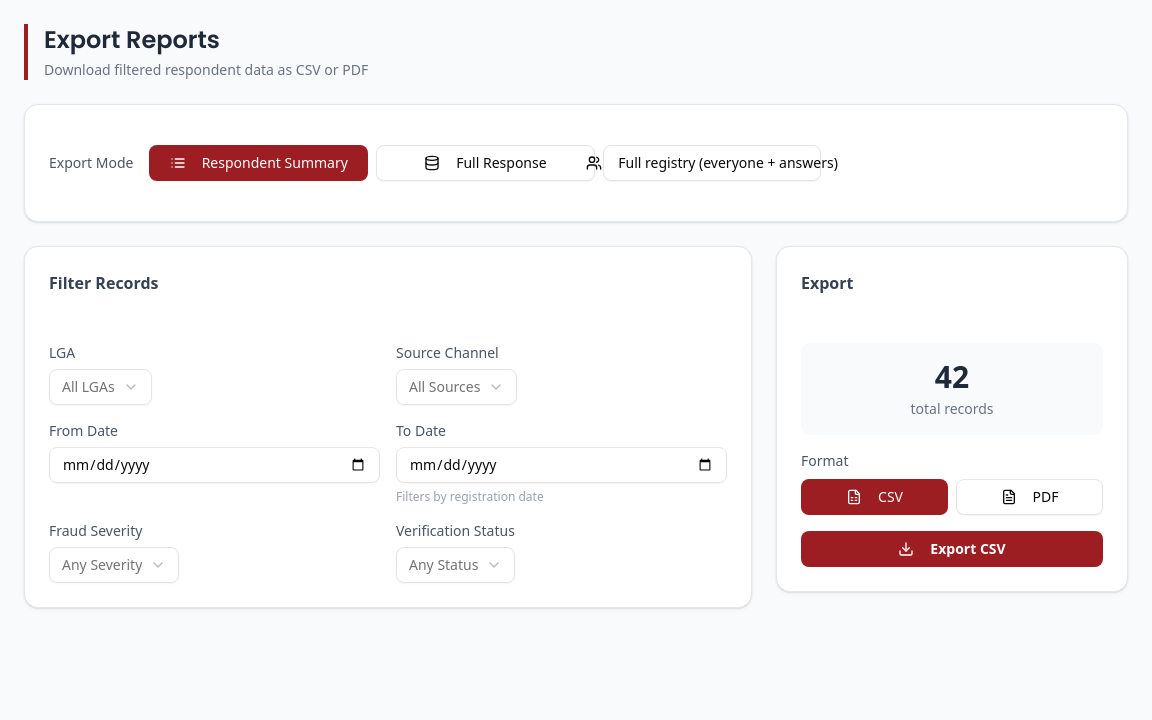
it: ExportPage › shows form selector when Full Response mode is selected
Click the button with test id "mode-full" at {"x": 485, "y": 163}, box [376, 145, 595, 181]
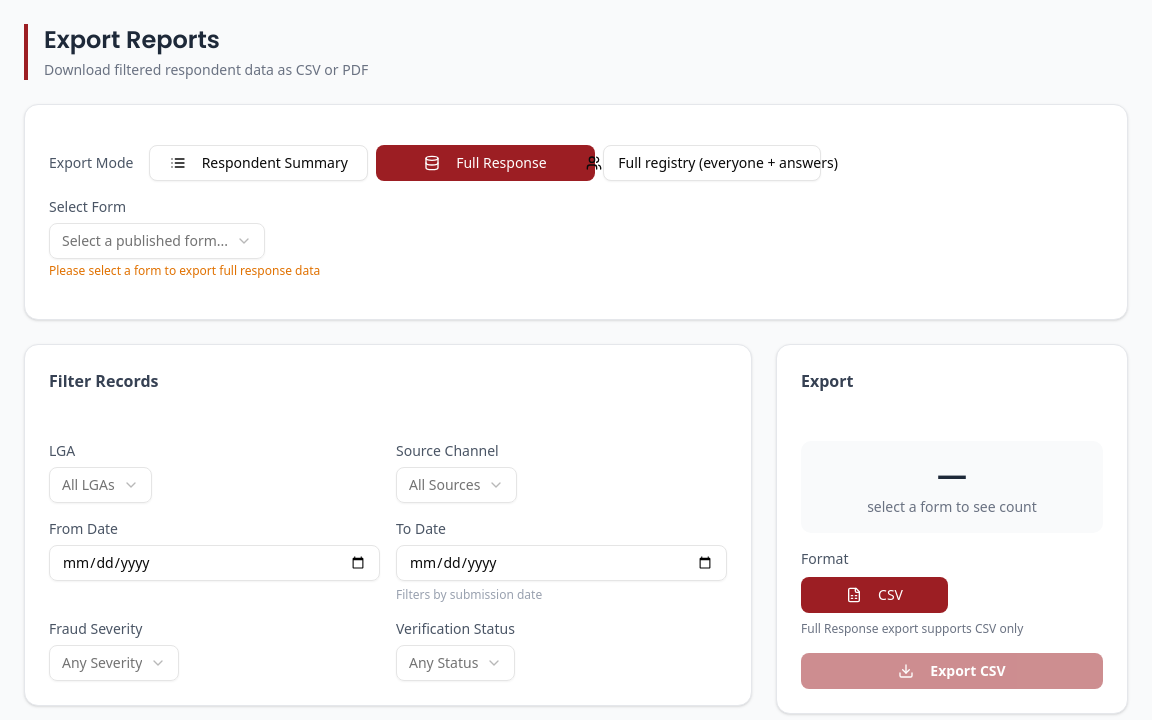
Expected: the element with test id "form-selector-container" is shown, [49, 197, 320, 279]
Expected: the dropdown with test id "form-selector" is shown, [49, 223, 265, 259]
